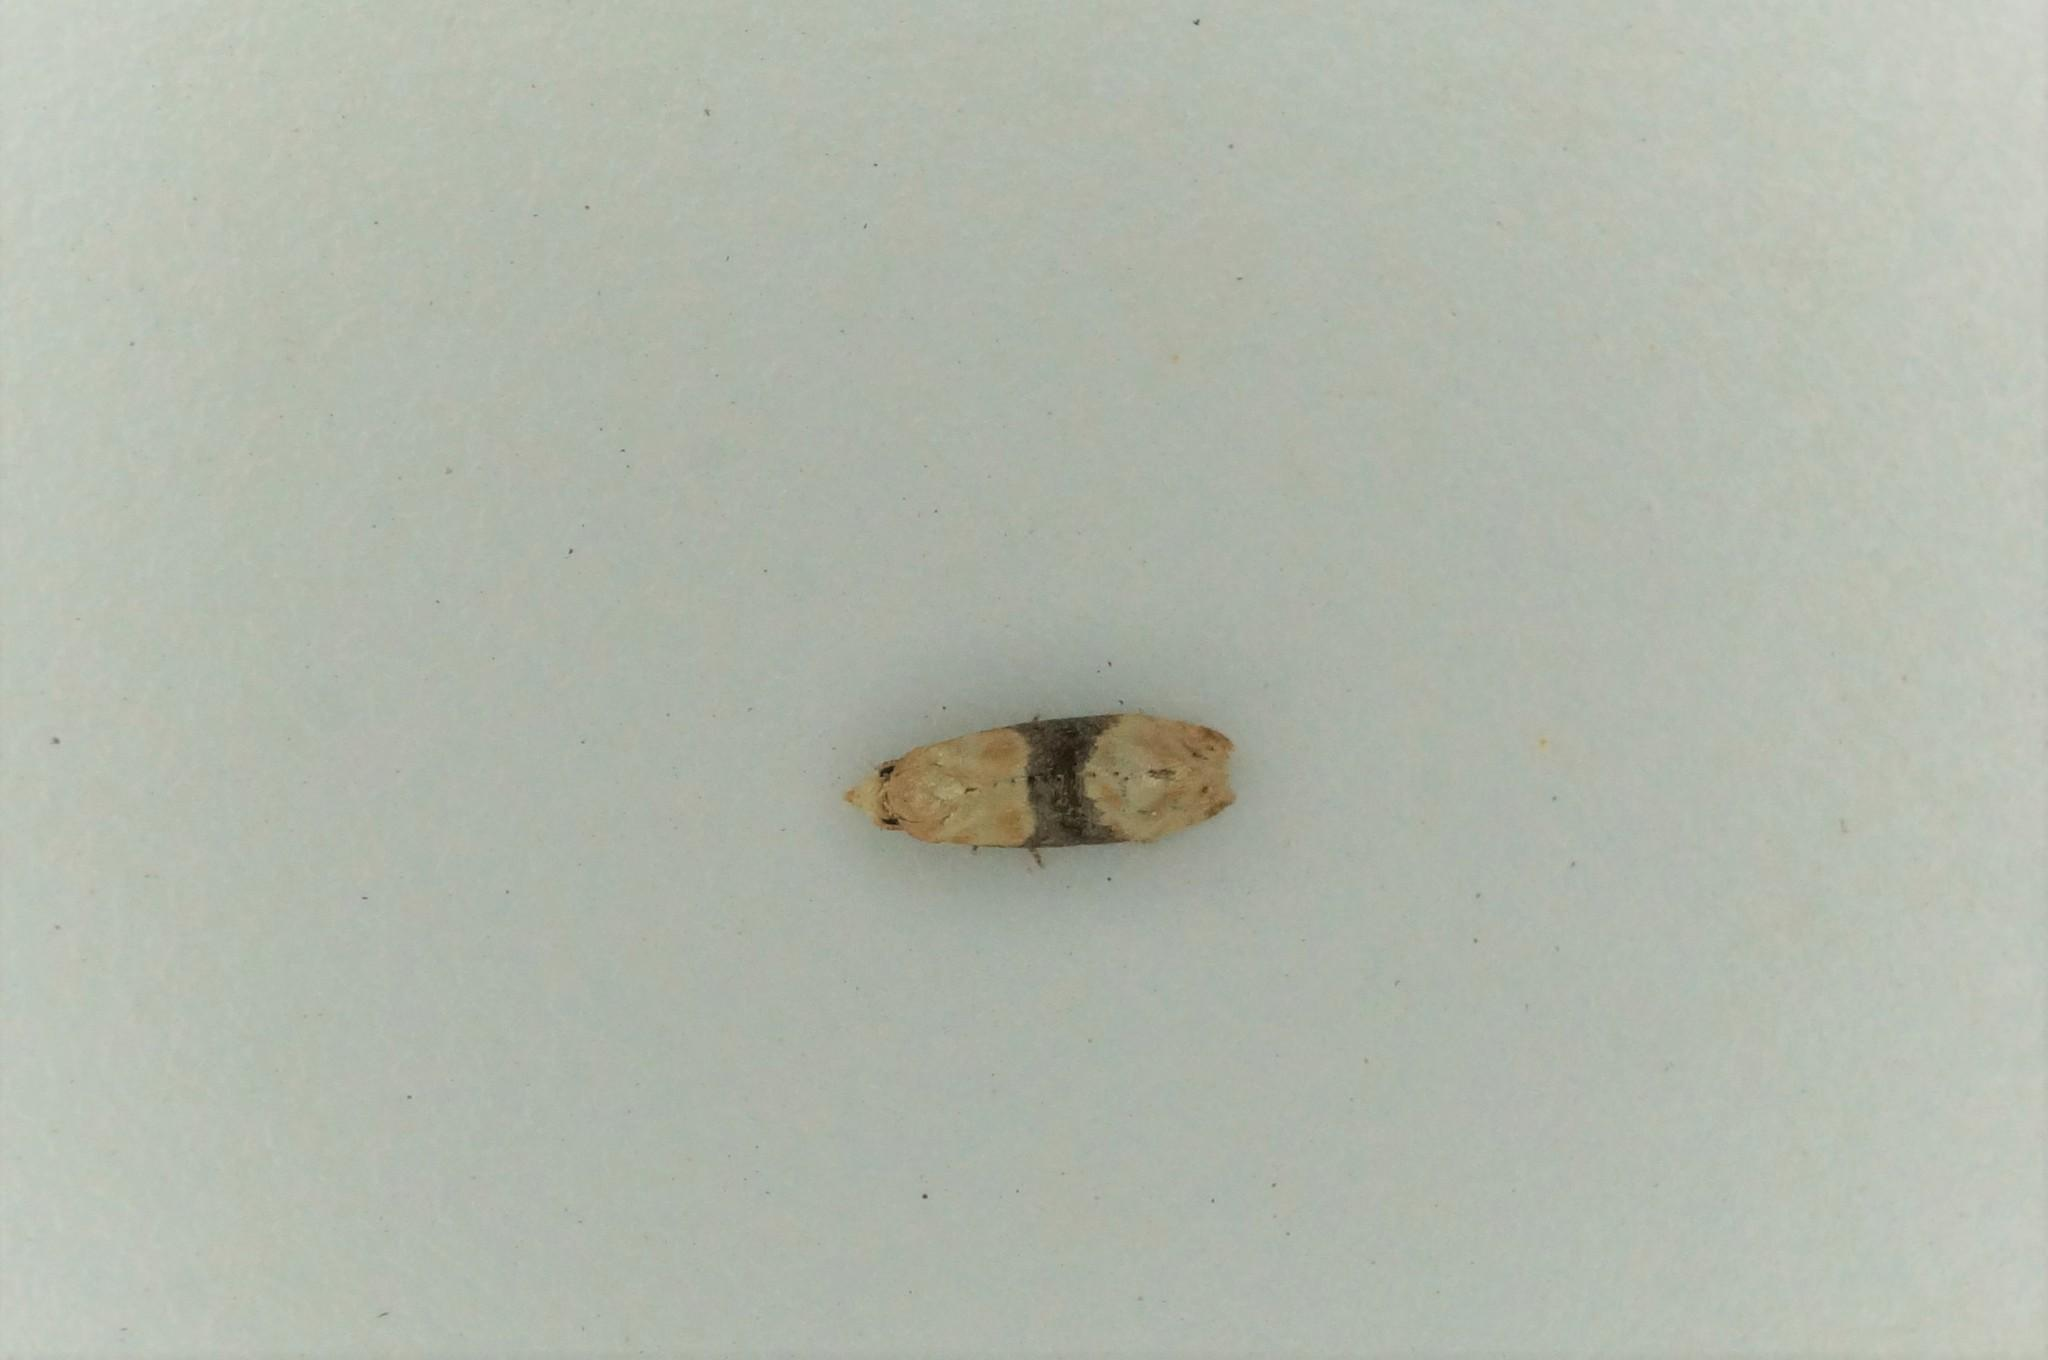Eupoecilia Ambiguella: (840, 703, 1242, 867)
